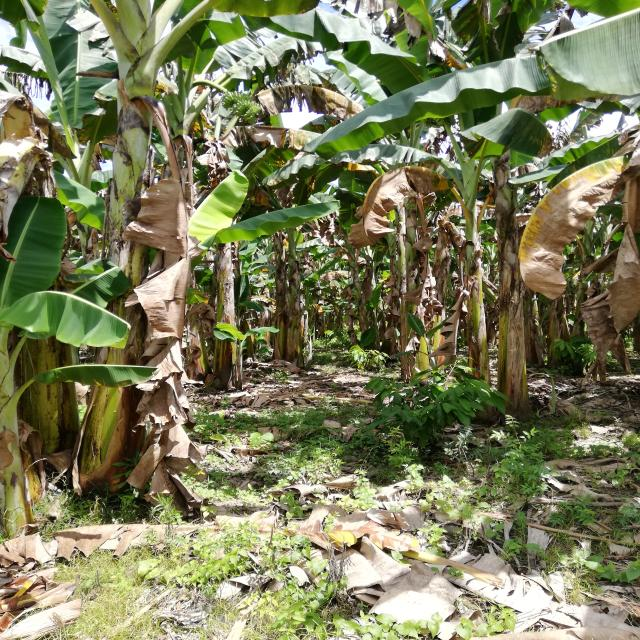Banana-plant: (71, 39, 177, 508), (479, 136, 541, 419), (437, 153, 489, 410), (206, 204, 253, 388), (275, 232, 321, 374)
